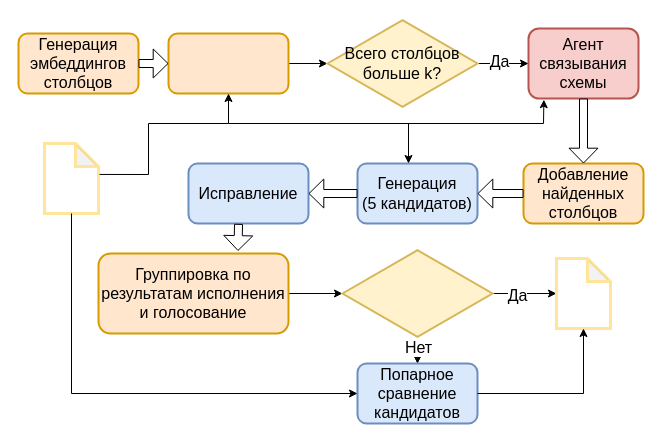
Some shapes in this 661 by 441 pixel diagram are drawn without their labels. The centre of each missing label's shape, as x and y in pixels:
"SQL" belongs at (583,293).
"Вопрос" belongs at (71,178).
"Есть самый частый кандидат?" belongs at (417,293).
"Поиск топ k столбцов" belongs at (228,63).
